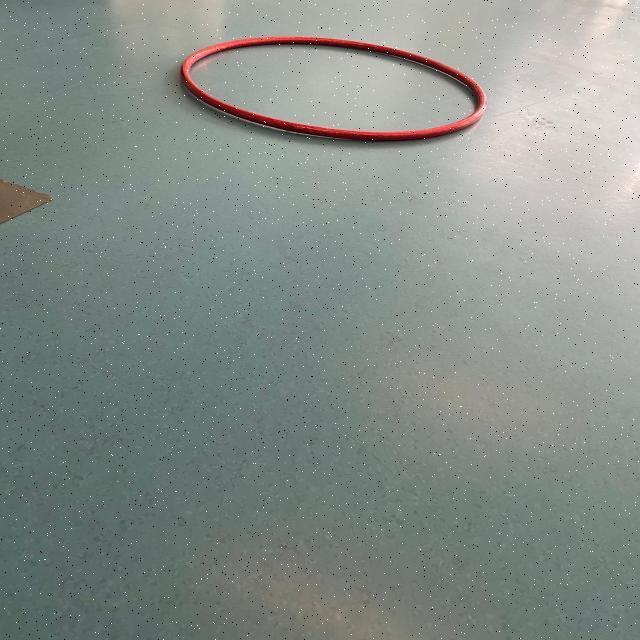Circle: (170, 29, 494, 150)
